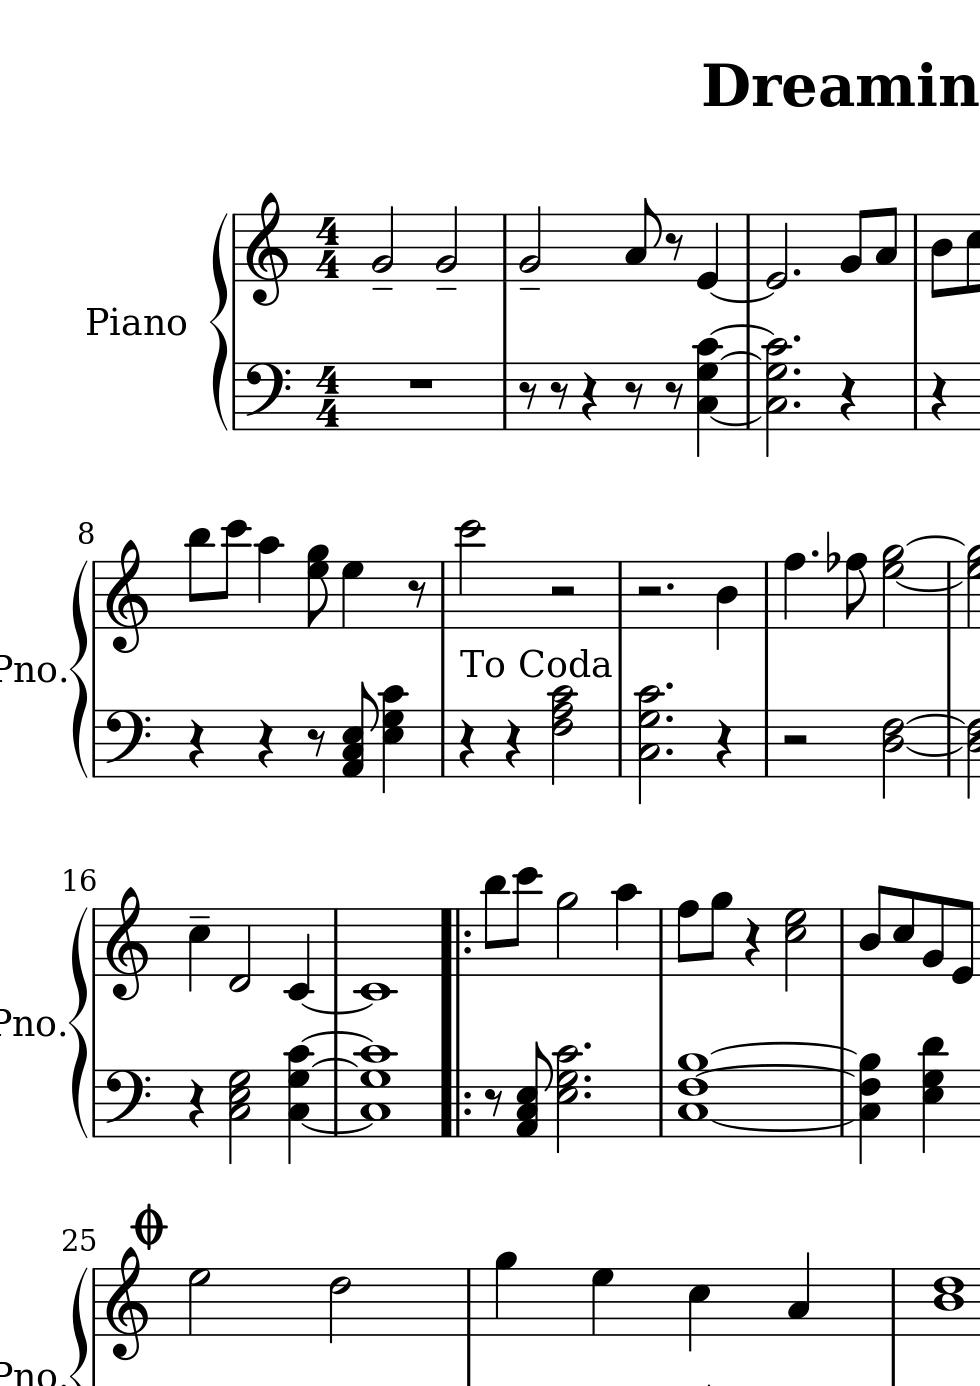1: (62, 866, 76, 894)
1_-2: (355, 906, 392, 1004)
1_4_6: (934, 1267, 964, 1338)
1_th: (353, 1042, 393, 1138), (675, 1051, 710, 1138)
2: (60, 1227, 78, 1255)
2_-1: (226, 905, 253, 995)
2_0: (763, 211, 790, 292)
2_12: (455, 517, 484, 630)
2_2: (433, 204, 459, 281), (517, 203, 542, 282), (370, 204, 395, 281)
2_4_6: (881, 708, 904, 802)
2_5_7: (783, 907, 808, 993)
2_6: (327, 1267, 351, 1344)
2_7: (185, 1266, 211, 1337)
2_7_9: (881, 544, 904, 629)
2_9: (553, 892, 580, 978)
2_th: (632, 683, 660, 802), (546, 682, 576, 786)
4: (313, 247, 343, 280), (313, 213, 342, 247), (314, 396, 342, 429), (314, 363, 342, 394)
4_-2: (284, 906, 312, 1001)
4_0: (696, 212, 721, 292)
4_10: (253, 536, 281, 631), (612, 882, 638, 980)
4_3: (786, 1252, 810, 1336)
4_4: (713, 559, 738, 652)
4_5: (183, 906, 212, 994), (686, 1266, 711, 1355)
4_7: (589, 1267, 615, 1337), (339, 559, 364, 630)
4_8: (781, 552, 807, 631)
4_9: (493, 1251, 517, 1337)
4_th: (916, 1034, 950, 1155), (377, 682, 412, 793), (283, 1042, 314, 1166), (857, 1052, 880, 1169)
5: (78, 1226, 97, 1255)
6: (78, 865, 97, 894)
8: (76, 519, 95, 546)
8_0: (949, 897, 974, 986)
8_11: (186, 526, 212, 630), (482, 874, 507, 977)
8_12: (217, 517, 249, 631), (508, 865, 539, 979)
8_2: (836, 207, 868, 283), (920, 892, 945, 977)
8_3: (622, 197, 661, 283), (874, 206, 898, 284)
8_4: (857, 884, 889, 977), (929, 211, 953, 299)
8_5: (891, 888, 915, 977)
8_7_9: (307, 543, 329, 632)
8_8: (843, 552, 868, 631), (675, 898, 699, 977)
8_9: (702, 891, 732, 978)
8_th: (337, 679, 381, 780), (514, 1038, 555, 1140), (554, 1036, 580, 1155)
Coda: (129, 1201, 168, 1250)
Fclef: (242, 359, 291, 432), (102, 708, 151, 780), (103, 1068, 152, 1140)
Flat: (824, 530, 839, 575)
Gclef: (104, 885, 151, 1001), (105, 537, 151, 654), (244, 189, 288, 308), (104, 1243, 148, 1362)
LeftRepeatSign: (436, 1069, 473, 1138)
Pno: (85, 305, 185, 340), (1, 1005, 55, 1041), (1, 653, 54, 685), (1, 1359, 57, 1386)
Rests1: (404, 374, 436, 392)
Rests2: (546, 582, 580, 601), (632, 582, 663, 602), (778, 731, 810, 748)
Rests4: (711, 716, 734, 770), (501, 716, 523, 772), (456, 716, 478, 771), (928, 369, 950, 423), (837, 369, 858, 424), (579, 370, 599, 423), (186, 717, 206, 770), (255, 717, 275, 770), (742, 916, 763, 968), (183, 1077, 204, 1129)
Rests8: (663, 379, 685, 413), (406, 577, 428, 610), (483, 1086, 505, 1119), (665, 229, 685, 265), (623, 379, 644, 413), (517, 380, 539, 411), (305, 726, 327, 759), (549, 379, 568, 411)
RightRepeatSign: (436, 908, 473, 976)
Single_barline: (651, 1070, 672, 1136), (739, 214, 757, 291), (459, 1269, 479, 1335), (652, 909, 671, 976), (328, 1070, 346, 1137), (611, 562, 629, 628), (757, 710, 775, 776), (883, 1269, 902, 1335), (434, 710, 451, 777), (612, 710, 629, 777), (434, 562, 451, 628), (758, 562, 775, 628), (942, 560, 958, 629), (907, 362, 923, 429), (327, 909, 343, 976), (497, 214, 513, 280), (908, 213, 923, 281), (834, 908, 848, 976), (87, 1269, 102, 1336), (497, 363, 512, 428), (943, 712, 958, 777), (88, 562, 102, 629), (88, 908, 101, 976), (228, 214, 241, 281), (89, 1070, 102, 1136), (229, 363, 241, 429), (89, 709, 101, 776)
Slur: (206, 212, 230, 429), (69, 906, 90, 1139), (67, 556, 87, 784), (696, 1062, 857, 1076), (710, 1118, 854, 1131), (710, 1042, 860, 1055), (896, 579, 963, 595), (302, 1031, 371, 1043), (710, 323, 776, 336), (299, 1003, 371, 1015), (710, 290, 774, 302), (905, 534, 963, 548), (908, 712, 966, 725), (300, 1123, 372, 1134), (904, 745, 965, 757), (713, 415, 763, 425), (310, 1057, 356, 1068), (720, 350, 762, 362)
TimeSig: (313, 213, 347, 279), (314, 363, 342, 429)
ToCoda: (458, 641, 614, 682)
dot: (789, 333, 803, 346), (789, 365, 803, 378), (663, 580, 677, 593), (790, 399, 803, 411), (580, 1040, 593, 1053), (663, 680, 675, 694), (663, 712, 675, 725), (790, 266, 802, 279), (808, 548, 820, 560), (581, 1072, 593, 1084), (581, 1089, 593, 1101), (663, 745, 673, 758)
